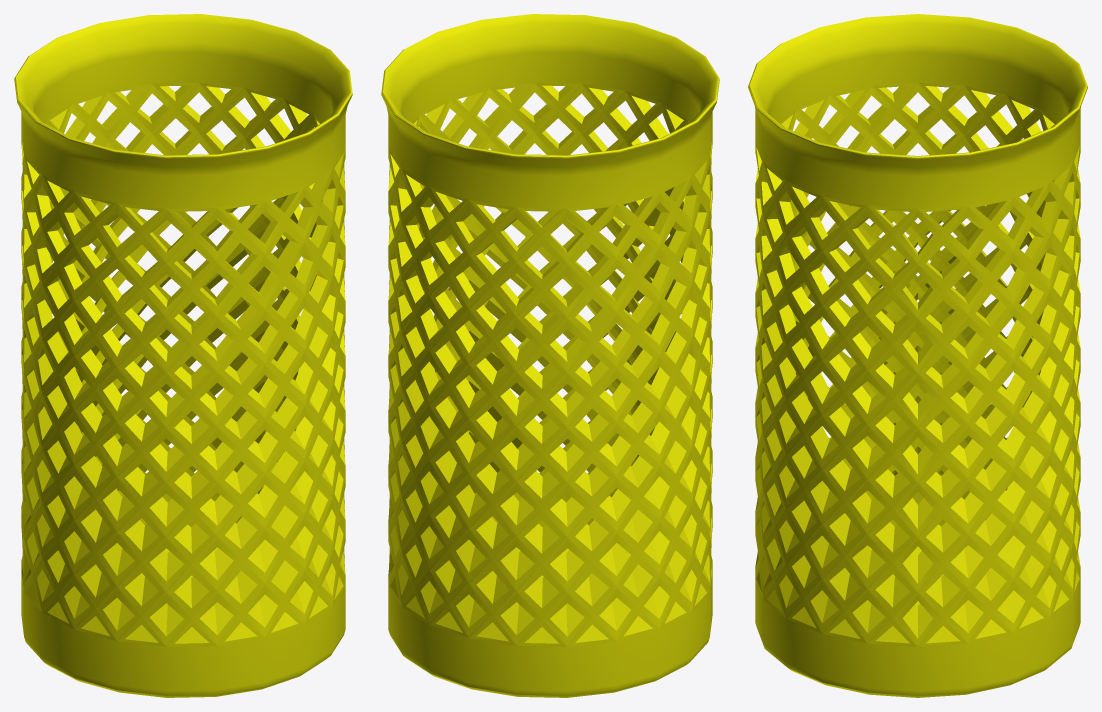
Rendered from dustbin.fbx.
3 renders of one model, left to right at view 1: azimuth 30°, elevation 25°; view 2: azimuth 150°, elevation 25°; view 3: azimuth 270°, elevation 25°, orthographic.
Parts seen in each view (by area): view 1: pCylinder3; view 2: pCylinder3; view 3: pCylinder3.
Boxes of the visible parts, left/top/right/bottom form: pCylinder3: left=14, top=14, right=352, bottom=697; pCylinder3: left=381, top=14, right=719, bottom=697; pCylinder3: left=748, top=14, right=1087, bottom=697.
Size of the model in its own units: 2.26 by 4.02 by 2.26.
